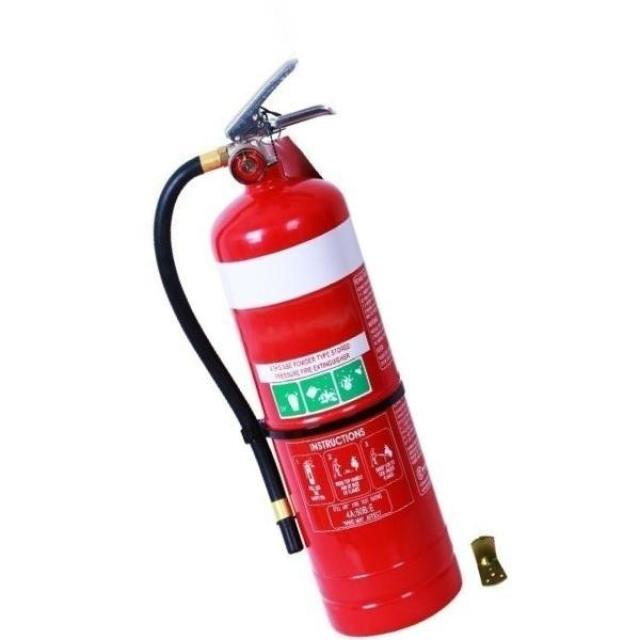fire_extinguisher: (143, 49, 466, 639)
